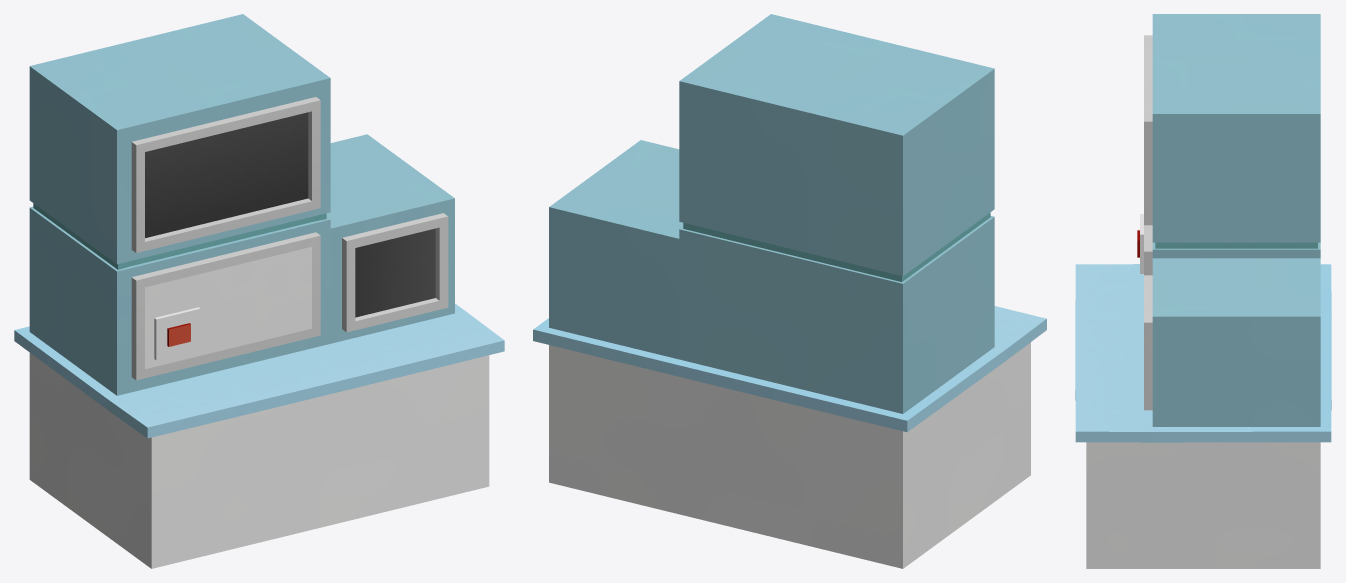
Rendered from machine_1.dae.
3 renders of one model, left to right at view 1: azimuth 30°, elevation 25°; view 2: azimuth 150°, elevation 25°; view 3: azimuth 270°, elevation 25°, orthographic. The views are drawn at different scales.
Parts seen in each view (by area): view 1: machine_1; view 2: machine_1; view 3: machine_1.
Part boxes in pixels (left/top/right/bottom): machine_1: left=14, top=14, right=504, bottom=568; machine_1: left=533, top=14, right=1046, bottom=568; machine_1: left=1075, top=14, right=1331, bottom=568.
Size of the model in its own units: 0.6383 by 0.4116 by 0.7031.
